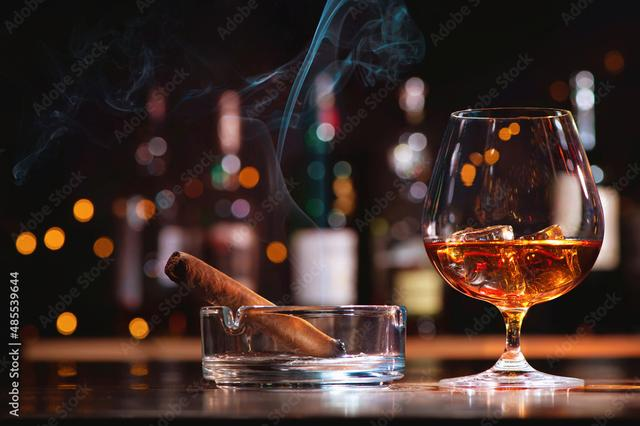Cigar: (163, 249, 347, 358)
